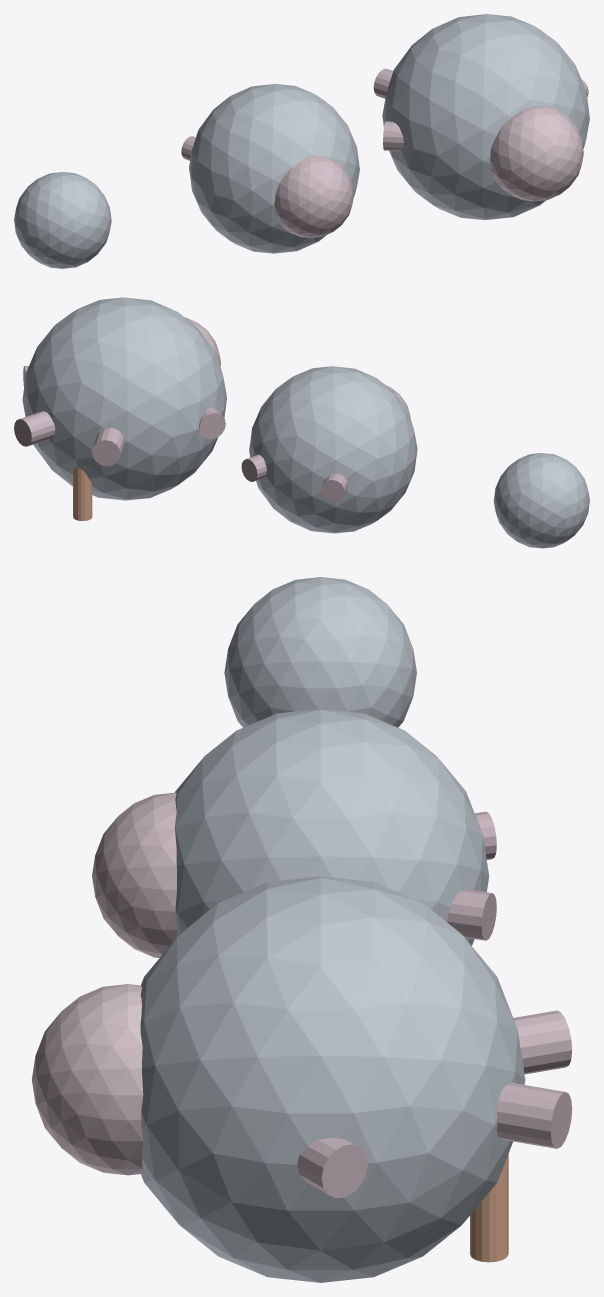
File: fetus_development.glb
3 renders of one model, top to bottom at view 1: azimuth 30°, elevation 25°; view 2: azimuth 150°, elevation 25°; view 3: azimuth 270°, elevation 25°, orthographic. The views are drawn at different scales.
Visible parts, largest first — view 1: world; view 2: world; view 3: world.
Part boxes in pixels (<box>): world: <box>14,14,589,268</box>; world: <box>14,297,589,548</box>; world: <box>31,577,572,1282</box>.
Size of the model in its own units: 5.37 by 1.7 by 2.24.
